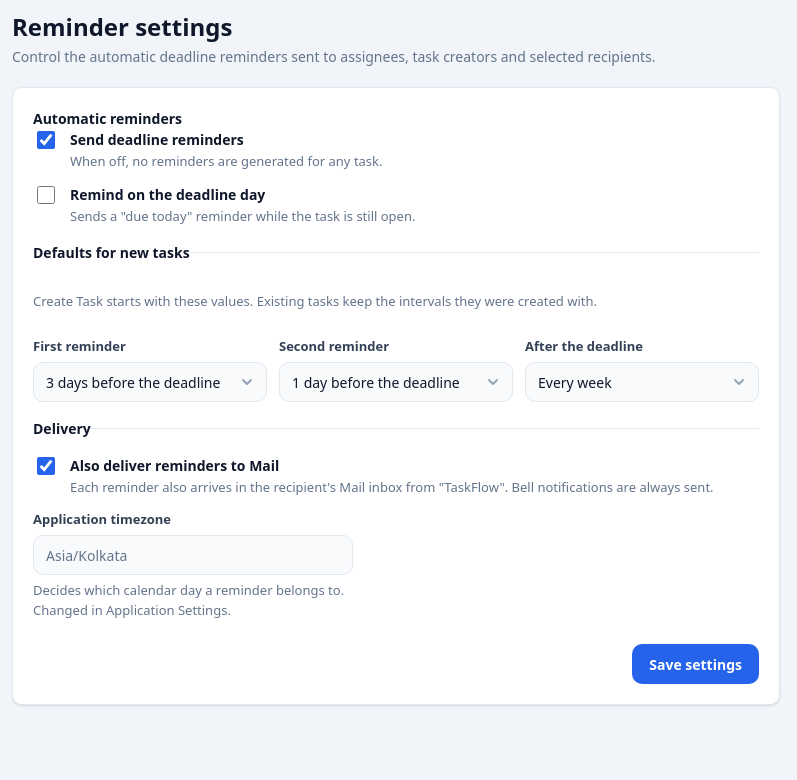
Test: ReminderSettingsComponent › shows server field errors from a 400 response and keeps the form values
Click the button "Save settings": point(696, 664) [632,644,759,684]
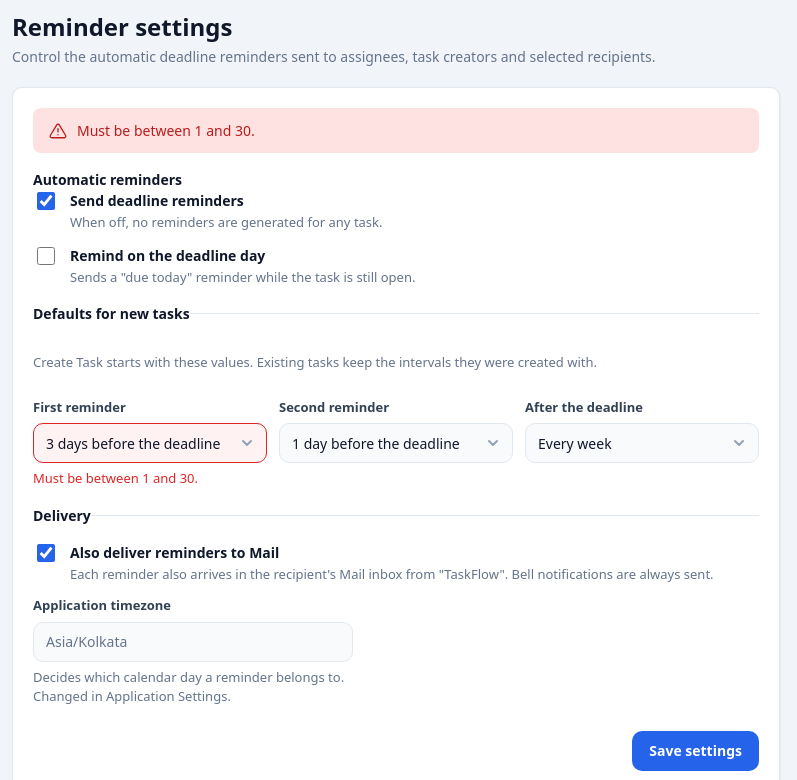
Expected: the 1st text "Must be between 1 and 30." is shown, [77,120,255,141]
